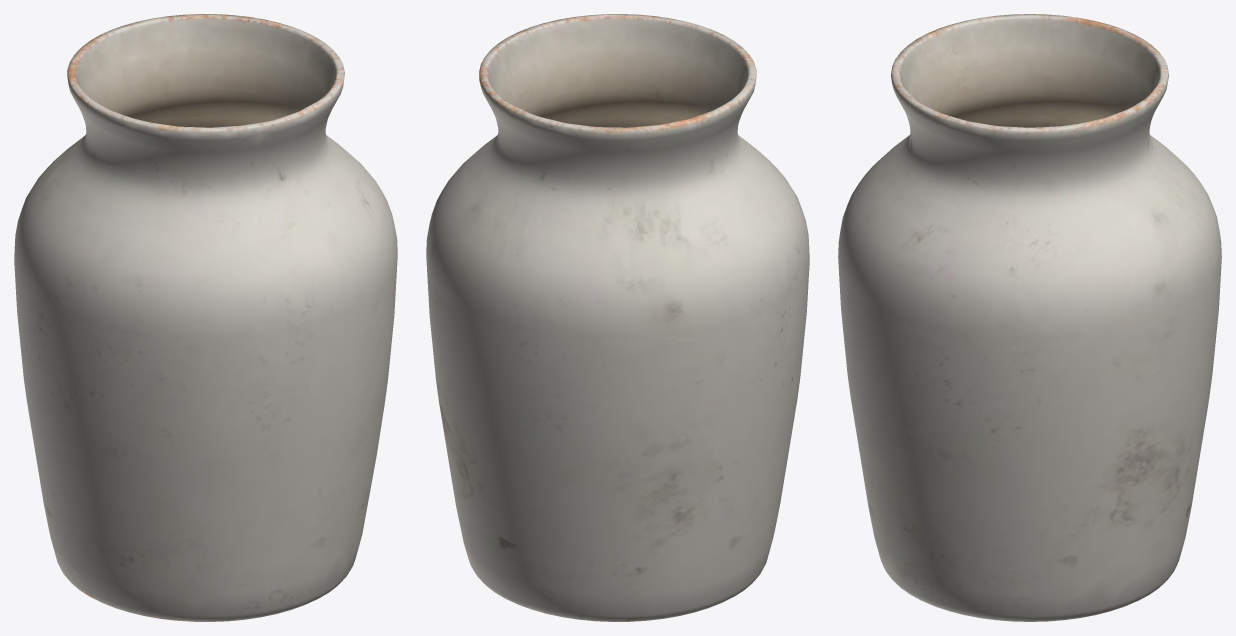
The model's file is assets__ph__ceramic_vase_02.glb.
The picture shows the model from 3 angles, left to right: view 1: azimuth 30°, elevation 25°; view 2: azimuth 150°, elevation 25°; view 3: azimuth 270°, elevation 25°; orthographic projection.
Parts seen in each view (by area): view 1: ceramic_vase_02; view 2: ceramic_vase_02; view 3: ceramic_vase_02.
Boxes of the visible parts, bbox=[...] form: ceramic_vase_02: bbox=[14, 14, 397, 621]; ceramic_vase_02: bbox=[426, 14, 809, 621]; ceramic_vase_02: bbox=[838, 14, 1221, 621].
Size of the model in its own units: 0.2184 by 0.3092 by 0.2184.
Materials: 1 (1 with a texture image).
